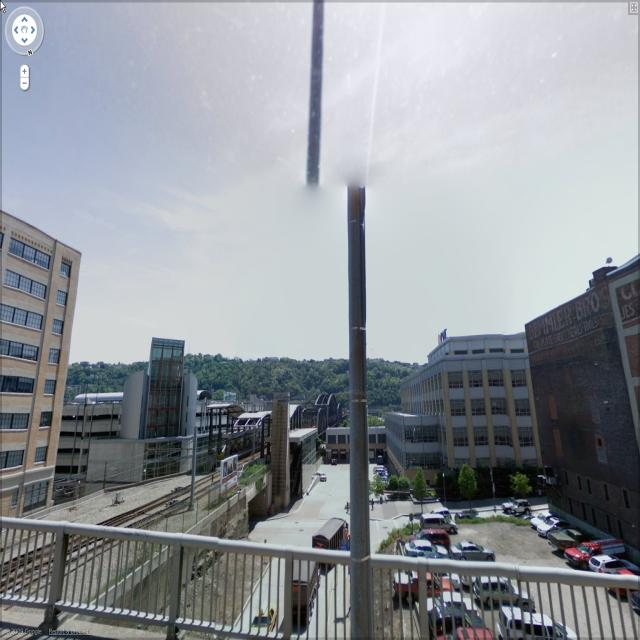b_1: (532, 277, 640, 547), (392, 339, 544, 483), (0, 228, 64, 500), (148, 336, 186, 460), (614, 259, 640, 365)
